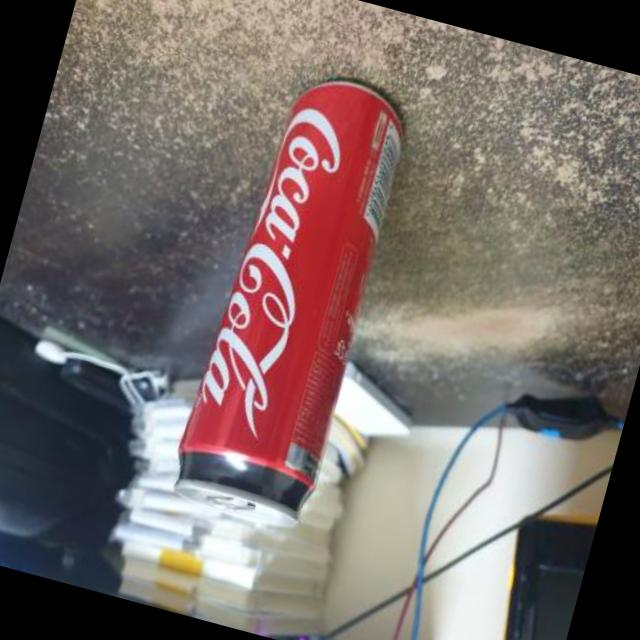metal: (177, 84, 401, 527)
